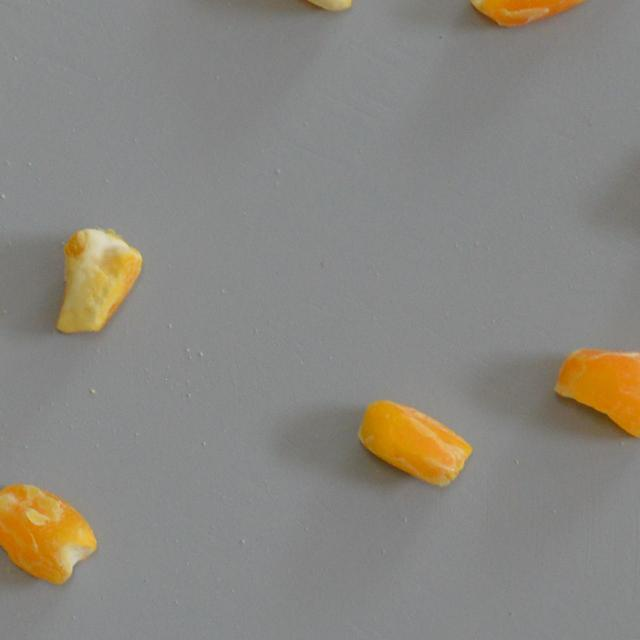pelicula: (0, 476, 101, 590), (354, 396, 472, 491), (50, 222, 146, 338), (549, 330, 640, 443), (468, 0, 594, 32), (257, 0, 352, 12)
